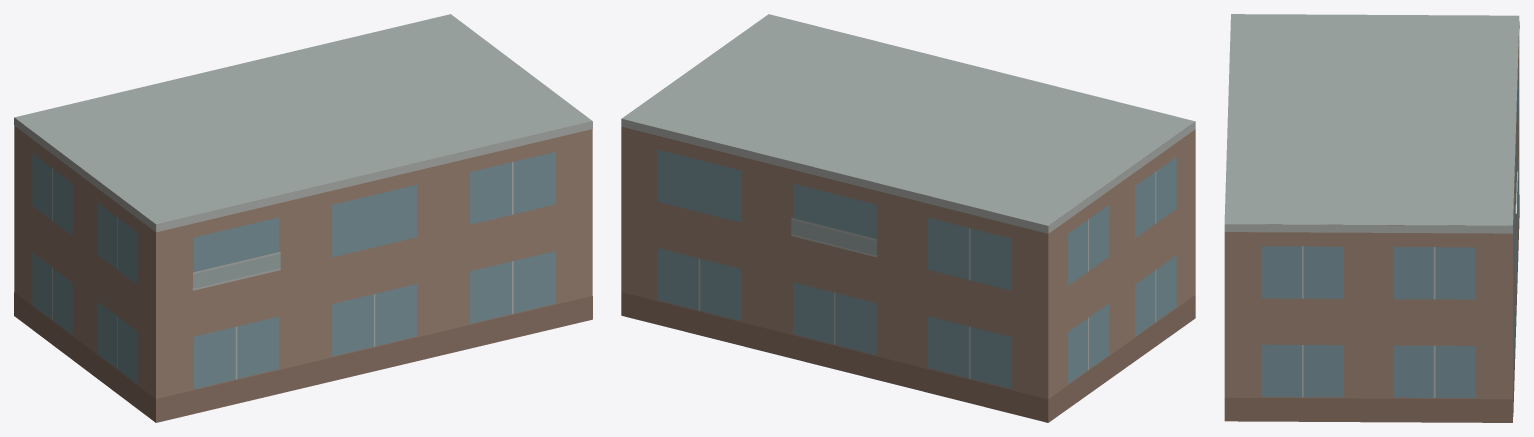
File: survey-upis-32969166.glb
3 renders of one model, left to right at view 1: azimuth 30°, elevation 25°; view 2: azimuth 150°, elevation 25°; view 3: azimuth 270°, elevation 25°, orthographic.
Visible parts, largest first — view 1: survey-upis-32969166.tmp; view 2: survey-upis-32969166.tmp; view 3: survey-upis-32969166.tmp.
Boxes of the visible parts, left/top/right/bottom form: survey-upis-32969166.tmp: left=14, top=14, right=592, bottom=422; survey-upis-32969166.tmp: left=621, top=14, right=1195, bottom=422; survey-upis-32969166.tmp: left=1224, top=14, right=1519, bottom=422.
Bounding box in the file's own units: 14.06 × 6.1 × 8.28.
